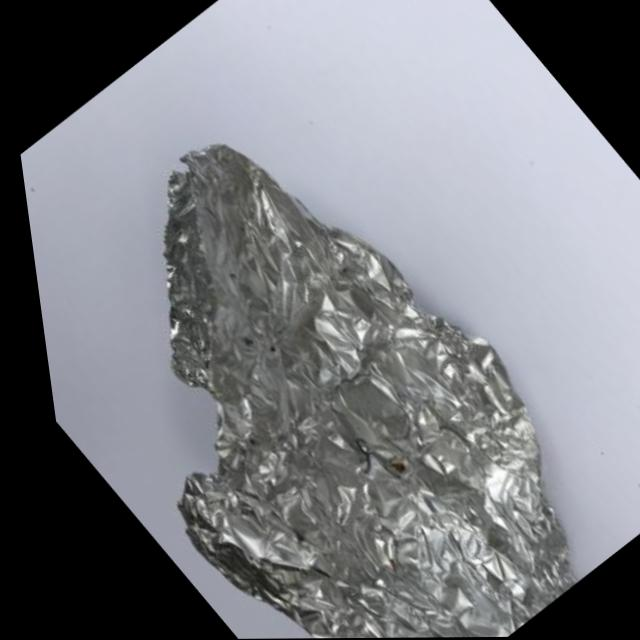metal: (4, 31, 640, 640)
